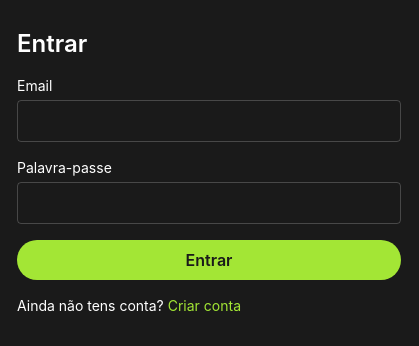
Test: LoginPage › shows a translated message when the credentials are wrong
Type "l@e.com" into the field labelled "Email" at (209, 121), box 17,100 -> 401,142
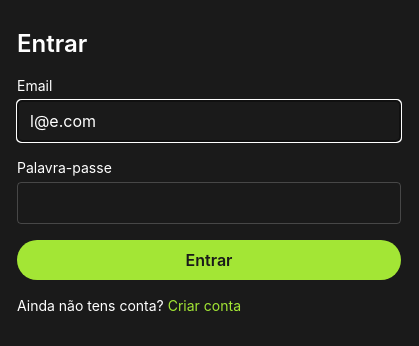
Type "wrong" into the password field labelled "Palavra-passe" at (209, 203), box 17,182 -> 401,224
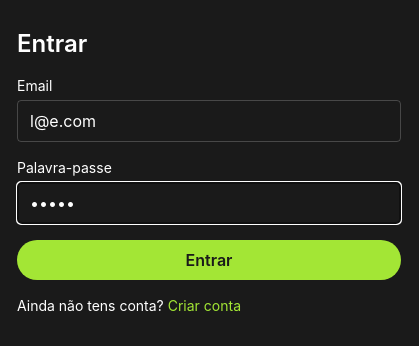
Click the button "Entrar" at (209, 260), box 17,240 -> 401,280
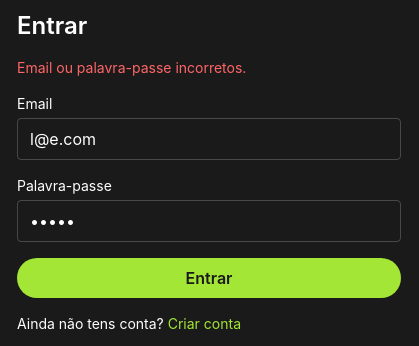
Now the text "Email ou palavra-passe incorretos." is shown, box 17,59 -> 246,76
